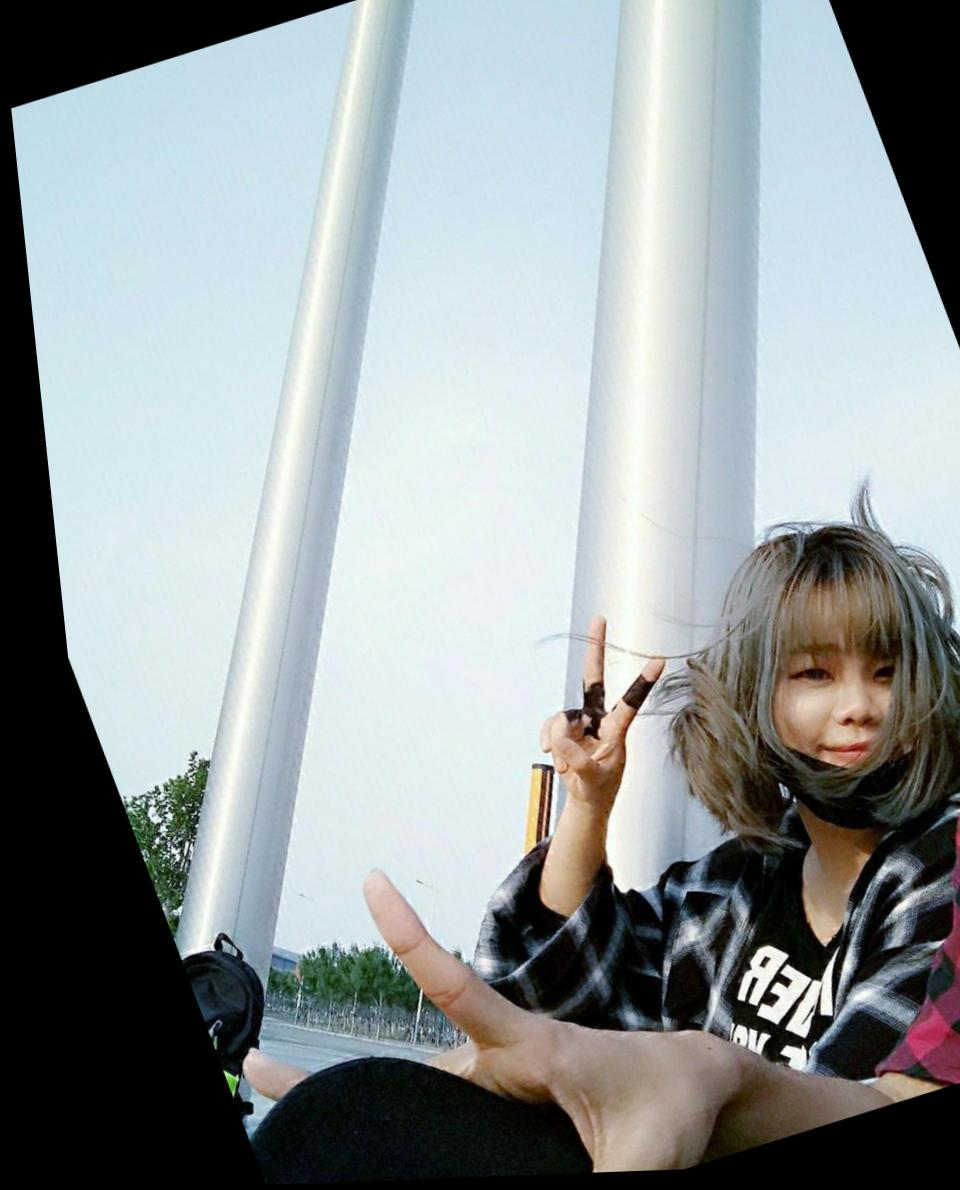WRONG: (716, 601, 956, 844)
